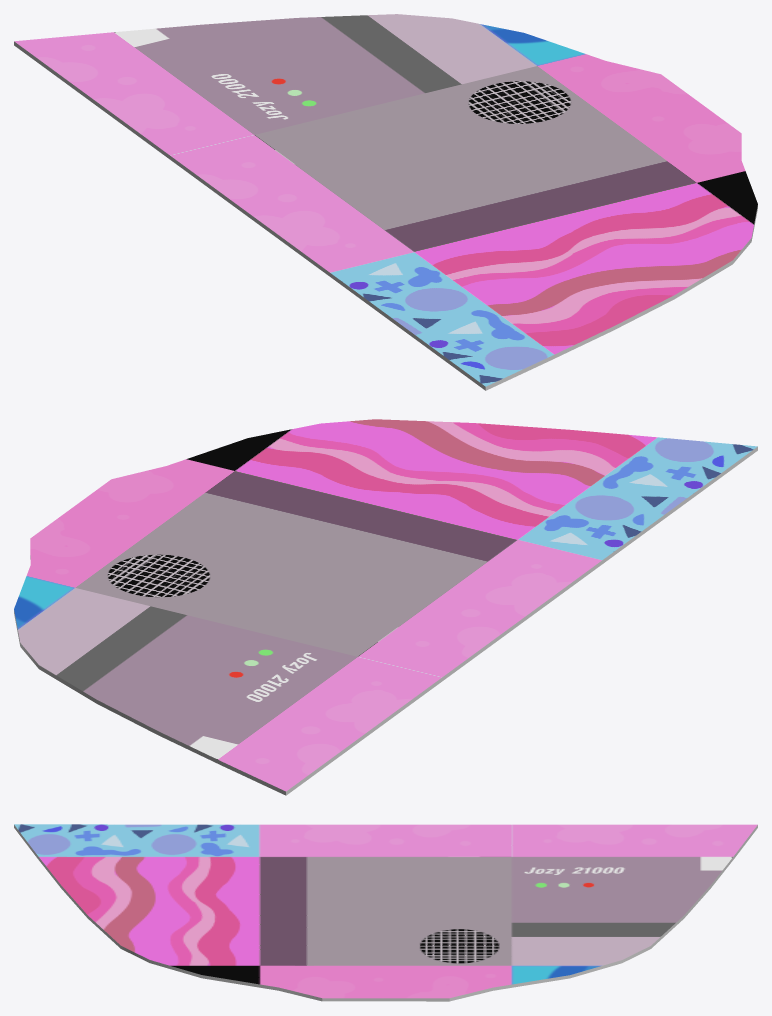
File: Dancing Mini Game Dance Floor.fbx
3 views of the same model, one above another, from view 1: azimuth 30°, elevation 25°; view 2: azimuth 150°, elevation 25°; view 3: azimuth 270°, elevation 25° (orthographic). The views are drawn at different scales.
Parts seen in each view (by area): view 1: Dance_Floor; view 2: Dance_Floor; view 3: Dance_Floor.
Boxes of the visible parts, bbox=[...] form: Dance_Floor: bbox=[14, 14, 757, 390]; Dance_Floor: bbox=[14, 419, 757, 795]; Dance_Floor: bbox=[14, 824, 757, 1001].
Bounding box in the file's own units: 15.33 × 0.1344 × 27.75.
2 materials, 1 textured.
